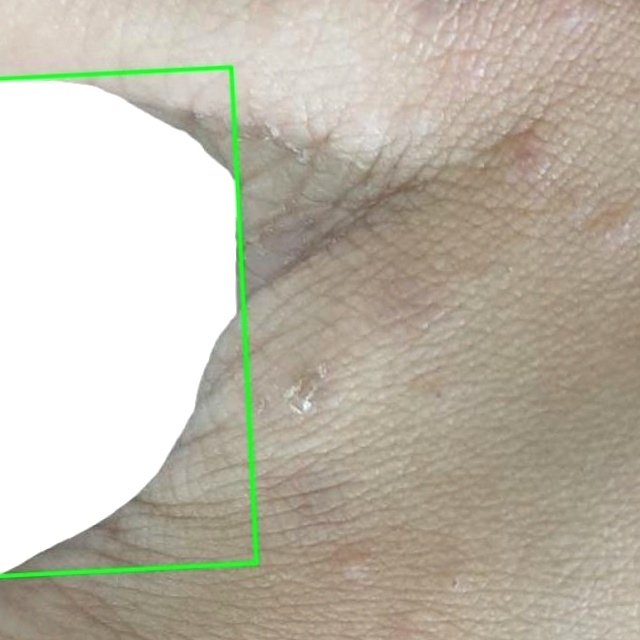Scabies: (0, 67, 256, 576)
